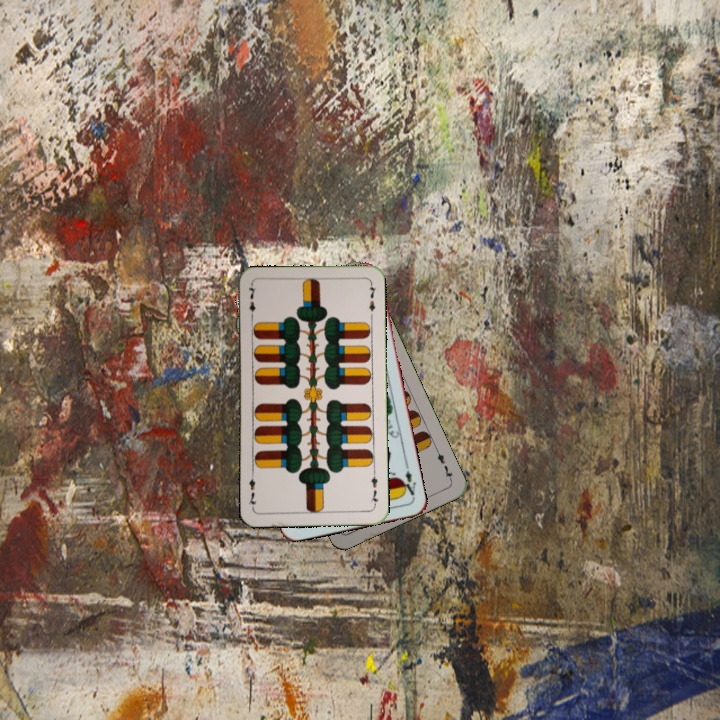E7: (432, 445, 455, 483), (367, 468, 381, 509), (244, 282, 258, 322)
EA: (397, 461, 418, 498)
